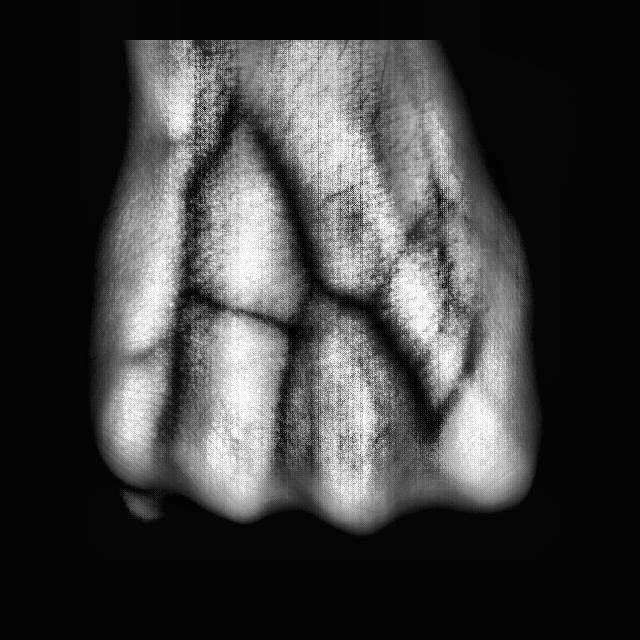Vein: (240, 113, 324, 272)
